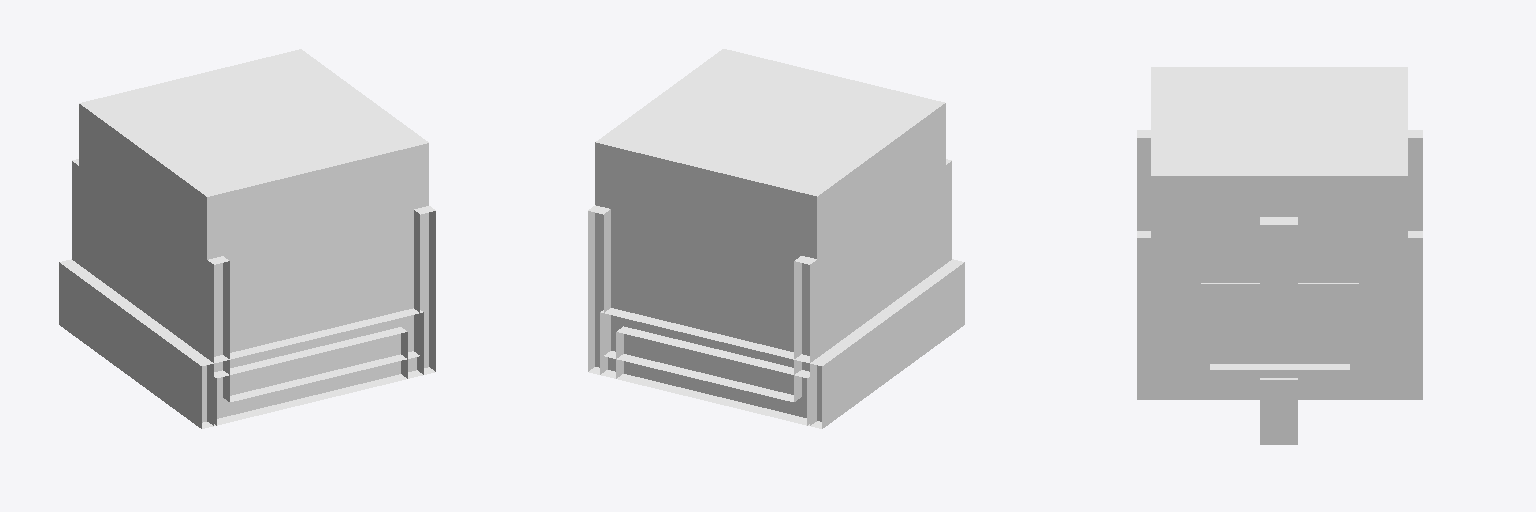
The model's file is framedchest.obj.
3 renders of one model, left to right at view 1: azimuth 30°, elevation 25°; view 2: azimuth 150°, elevation 25°; view 3: azimuth 270°, elevation 25°, orthographic.
Visible parts, largest first — view 1: small_lid_item, large_chest_left, large_lid_right, large_lid_left, large_chest_right, small_chest, small_lid; view 2: small_lid_item, large_chest_right, large_chest_left, large_lid_right, large_lid_left, small_lid; view 3: small_lid_item, large_chest_right, large_chest_left, latch_item, latch, small_chest.
Part boxes in pixels (x1,y1,x2,y2): small_lid_item: (79, 49, 428, 259); large_chest_left: (72, 159, 428, 418); large_lid_right: (67, 265, 423, 428); large_lid_left: (59, 259, 416, 423); large_chest_right: (79, 167, 435, 425); small_chest: (88, 173, 197, 346); small_lid: (75, 271, 185, 411); small_lid_item: (595, 49, 945, 258); large_chest_right: (595, 159, 951, 407); large_chest_left: (588, 180, 935, 425); large_lid_right: (608, 259, 964, 422); large_lid_left: (600, 264, 957, 428); small_lid: (831, 272, 948, 415); small_lid_item: (1151, 67, 1407, 237); large_chest_right: (1137, 130, 1407, 399); large_chest_left: (1151, 130, 1422, 399); latch_item: (1260, 217, 1297, 288); latch: (1260, 378, 1297, 444); small_chest: (1170, 238, 1389, 399).
Size of the model in its own units: 1.02 by 1.03 by 1.